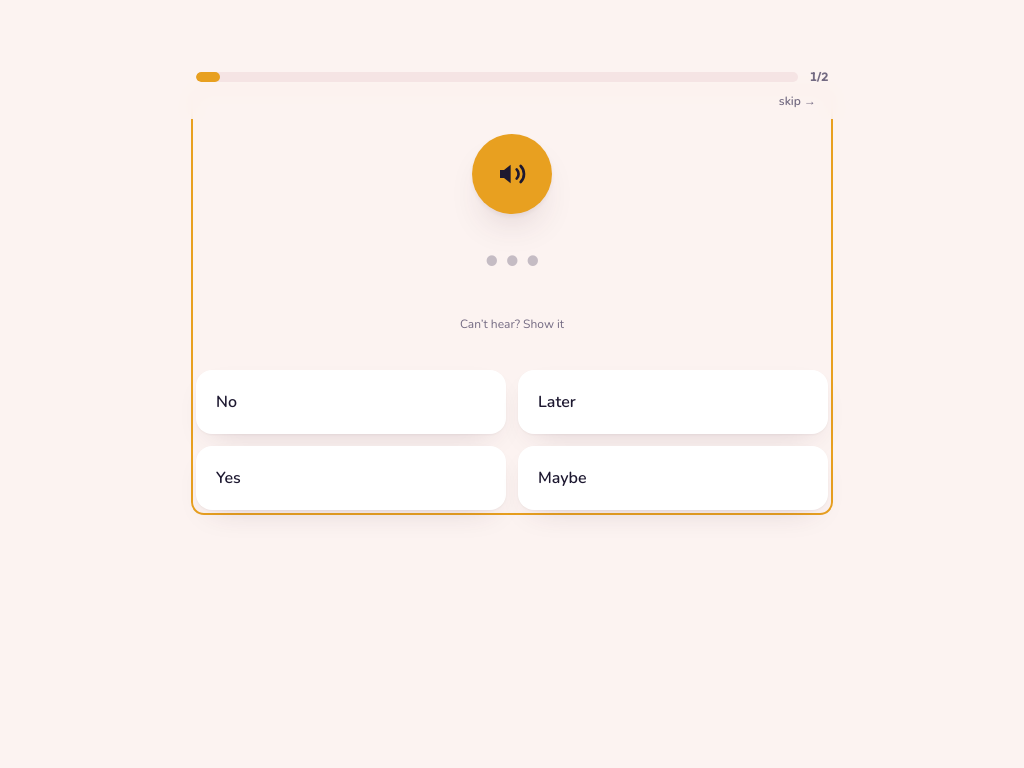
ExerciseRunner › phrase memory › ignores a revisit
Step 1. Click the button "Yes" → (228, 478), box top-left (196, 446), bottom-right (506, 510)
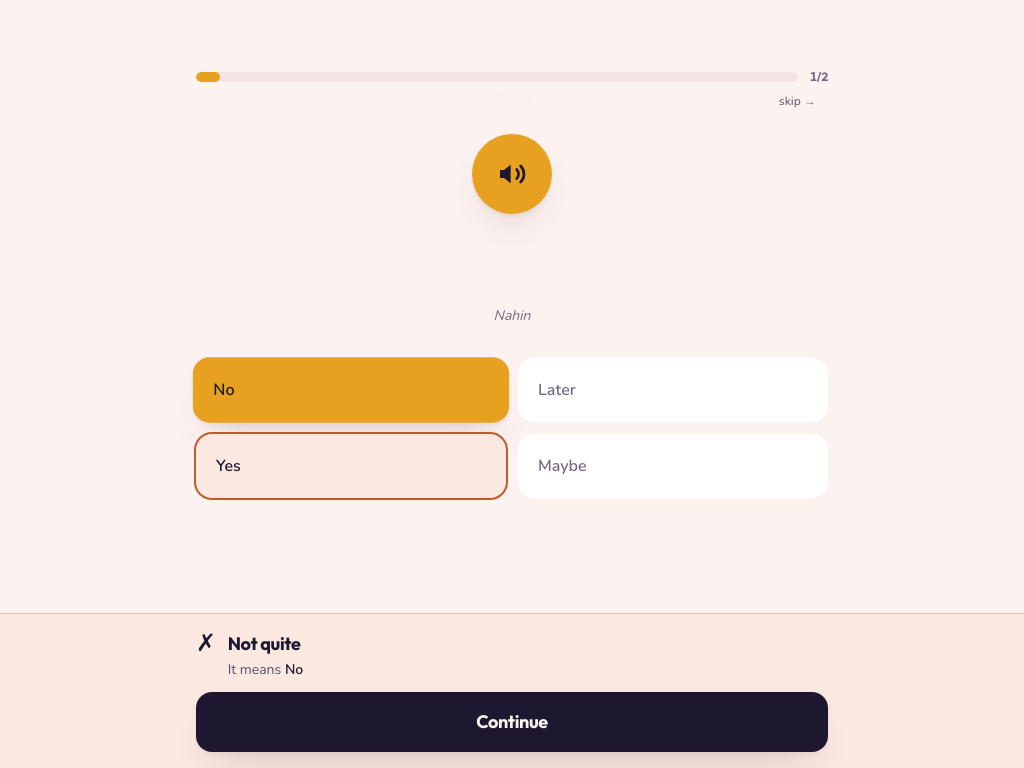
Step 2. Click the button "Continue" → (512, 722), box top-left (196, 692), bottom-right (828, 752)
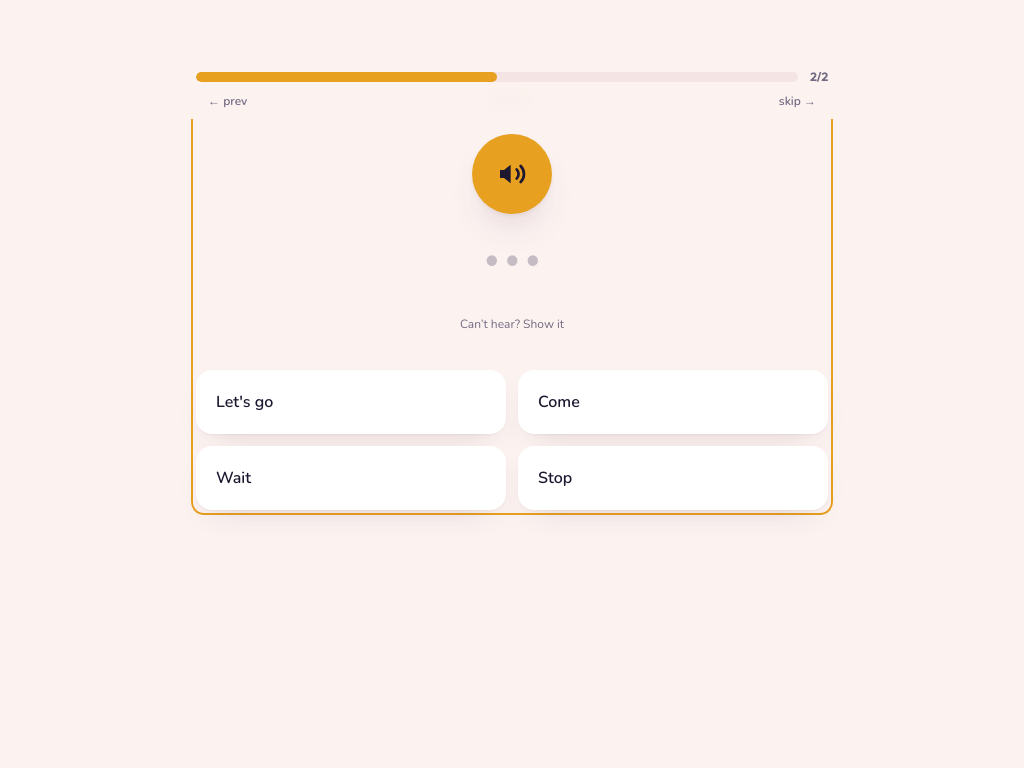
Check: the text "2/2" is shown, box top-left (810, 69), bottom-right (828, 85)
Step 3. Click the button "← prev" → (228, 101), box top-left (196, 79), bottom-right (259, 123)
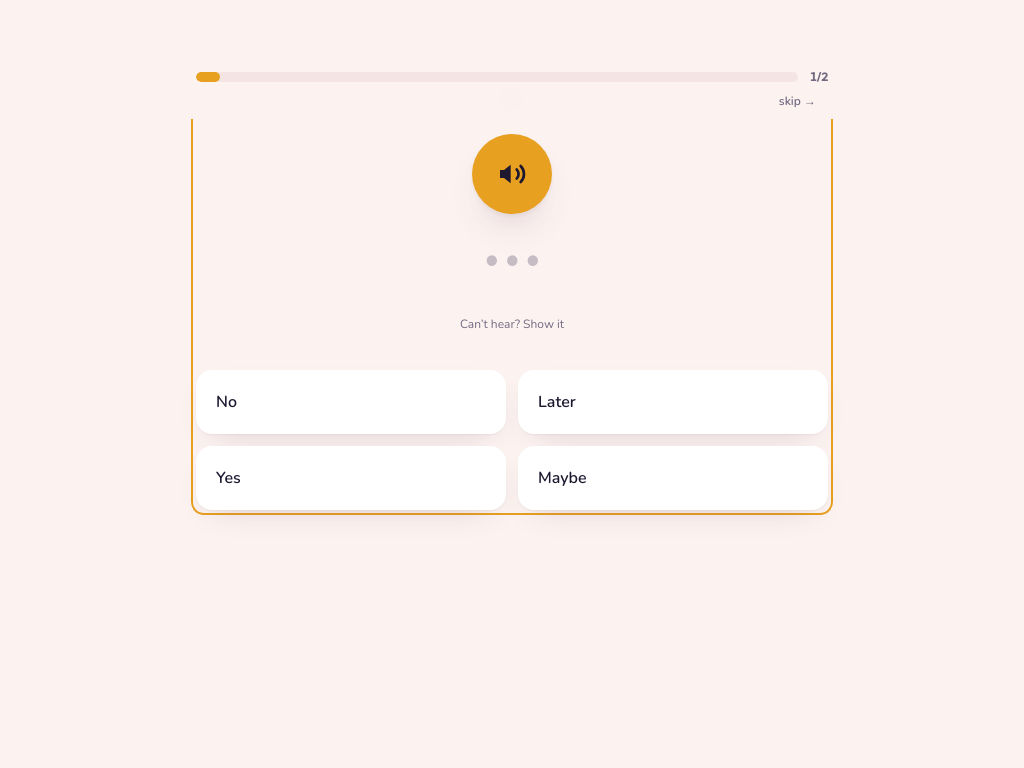
Step 4. Click the button "No" → (226, 402), box top-left (196, 370), bottom-right (506, 434)
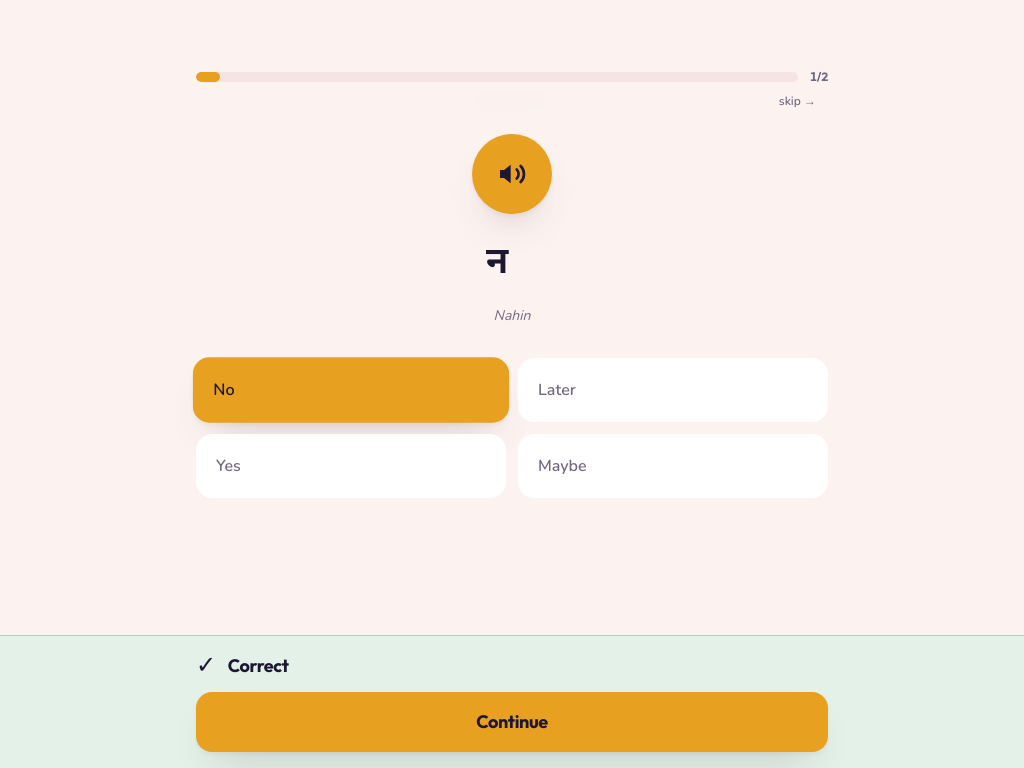
Step 5. Click the button "Continue" → (512, 722), box top-left (196, 692), bottom-right (828, 752)
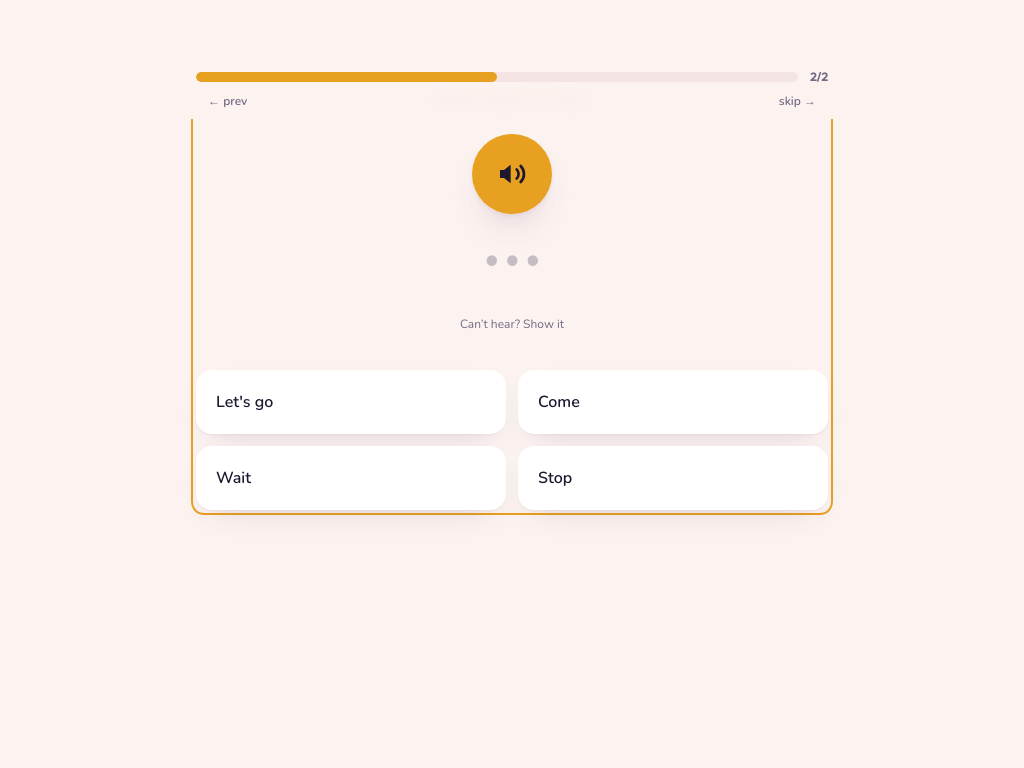
Check: the text "2/2" is shown, box top-left (810, 69), bottom-right (828, 85)
